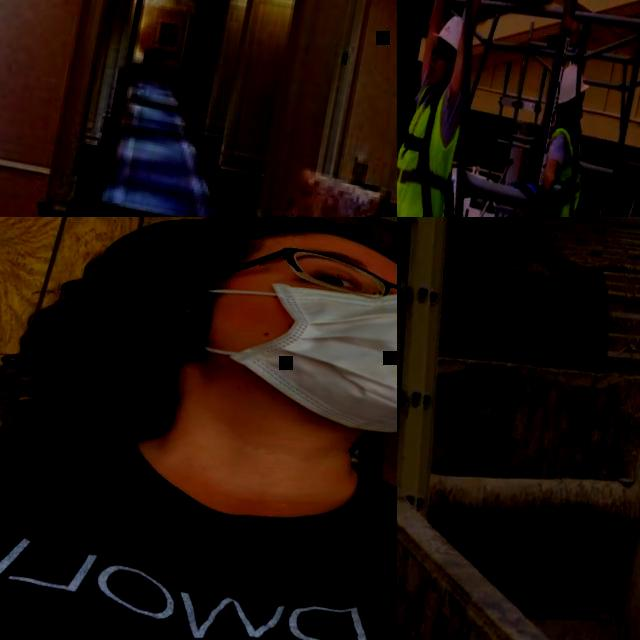helmet: (558, 62, 594, 108), (432, 11, 464, 52)
machinery: (397, 217, 640, 478)
mask: (188, 253, 397, 447)
no_helmet: (107, 217, 397, 308)
no_mask: (426, 60, 449, 90), (578, 101, 586, 118)
no_vest: (0, 399, 397, 640)
person: (0, 217, 397, 640), (397, 0, 511, 217), (491, 17, 609, 217)
vehicle: (436, 164, 505, 217)
vest: (397, 83, 467, 217), (535, 122, 593, 217)
